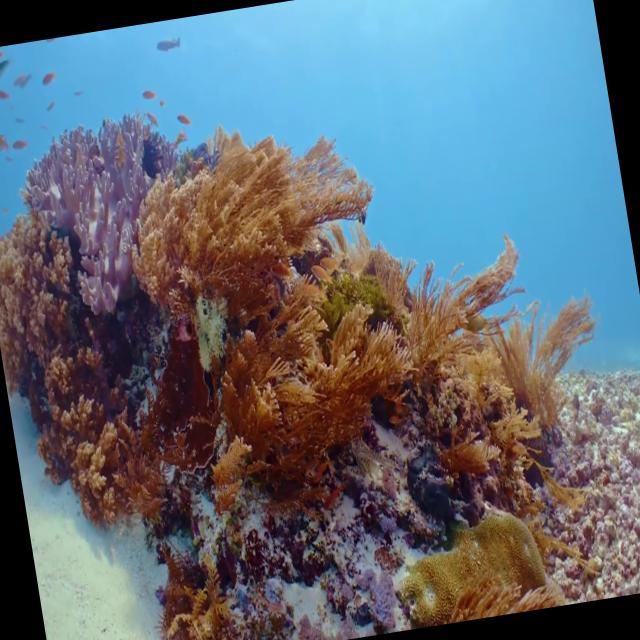fish: (151, 26, 190, 62), (0, 52, 20, 98), (170, 105, 196, 136), (40, 62, 64, 94), (6, 131, 32, 156), (0, 122, 14, 166), (141, 86, 158, 104)
